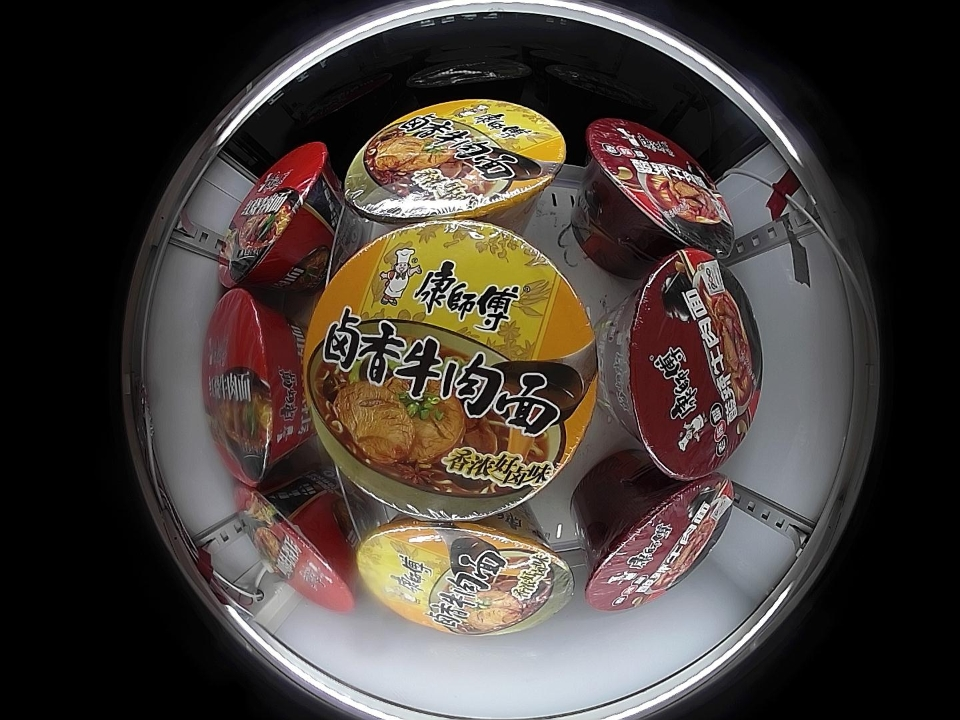hongshaoniurou: (204, 288, 302, 485), (217, 140, 335, 289), (234, 481, 356, 614)
luxiangniurou: (303, 220, 600, 518), (344, 98, 567, 223), (356, 516, 574, 635)
suanlaniurou: (615, 248, 761, 479), (585, 476, 736, 611), (585, 118, 735, 253)
